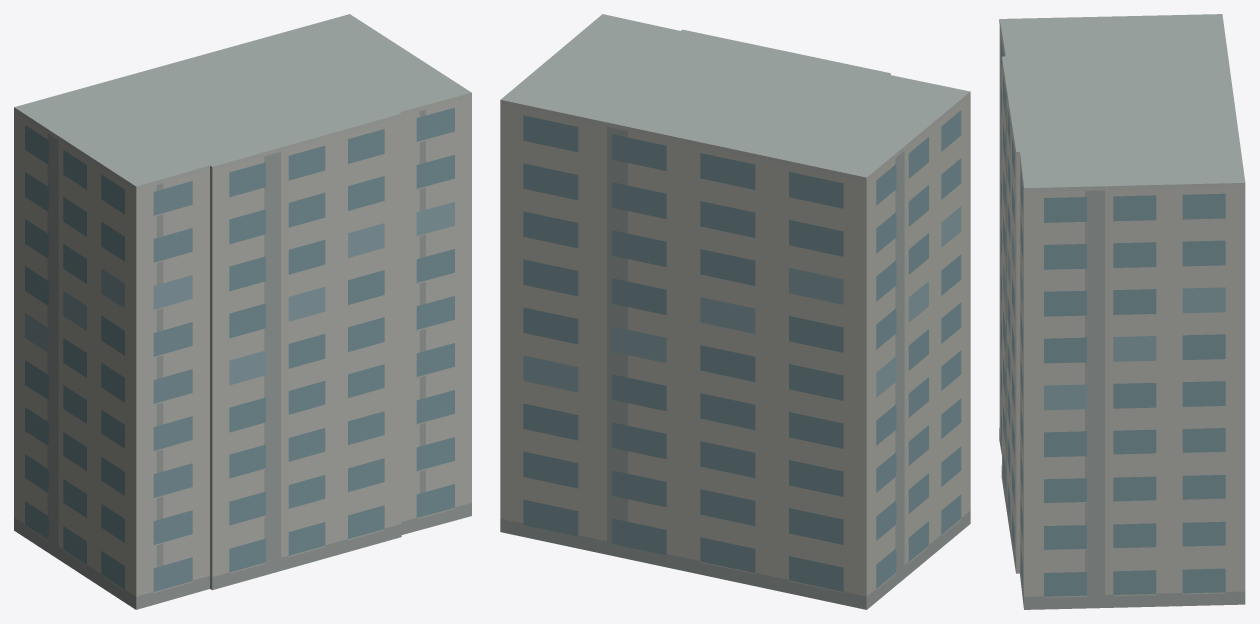
The model's file is survey-upis-32662901.glb.
The picture shows the model from 3 angles, left to right: view 1: azimuth 30°, elevation 25°; view 2: azimuth 150°, elevation 25°; view 3: azimuth 270°, elevation 25°; orthographic projection. The views are drawn at different scales.
Parts seen in each view (by area): view 1: survey-upis-32662901.tmp; view 2: survey-upis-32662901.tmp; view 3: survey-upis-32662901.tmp.
Part boxes in pixels (bbox=[...]): survey-upis-32662901.tmp: bbox=[14, 14, 471, 609]; survey-upis-32662901.tmp: bbox=[500, 14, 970, 609]; survey-upis-32662901.tmp: bbox=[999, 14, 1245, 609].
Bounding box in the file's own units: 21.55 × 24.33 × 12.86.
